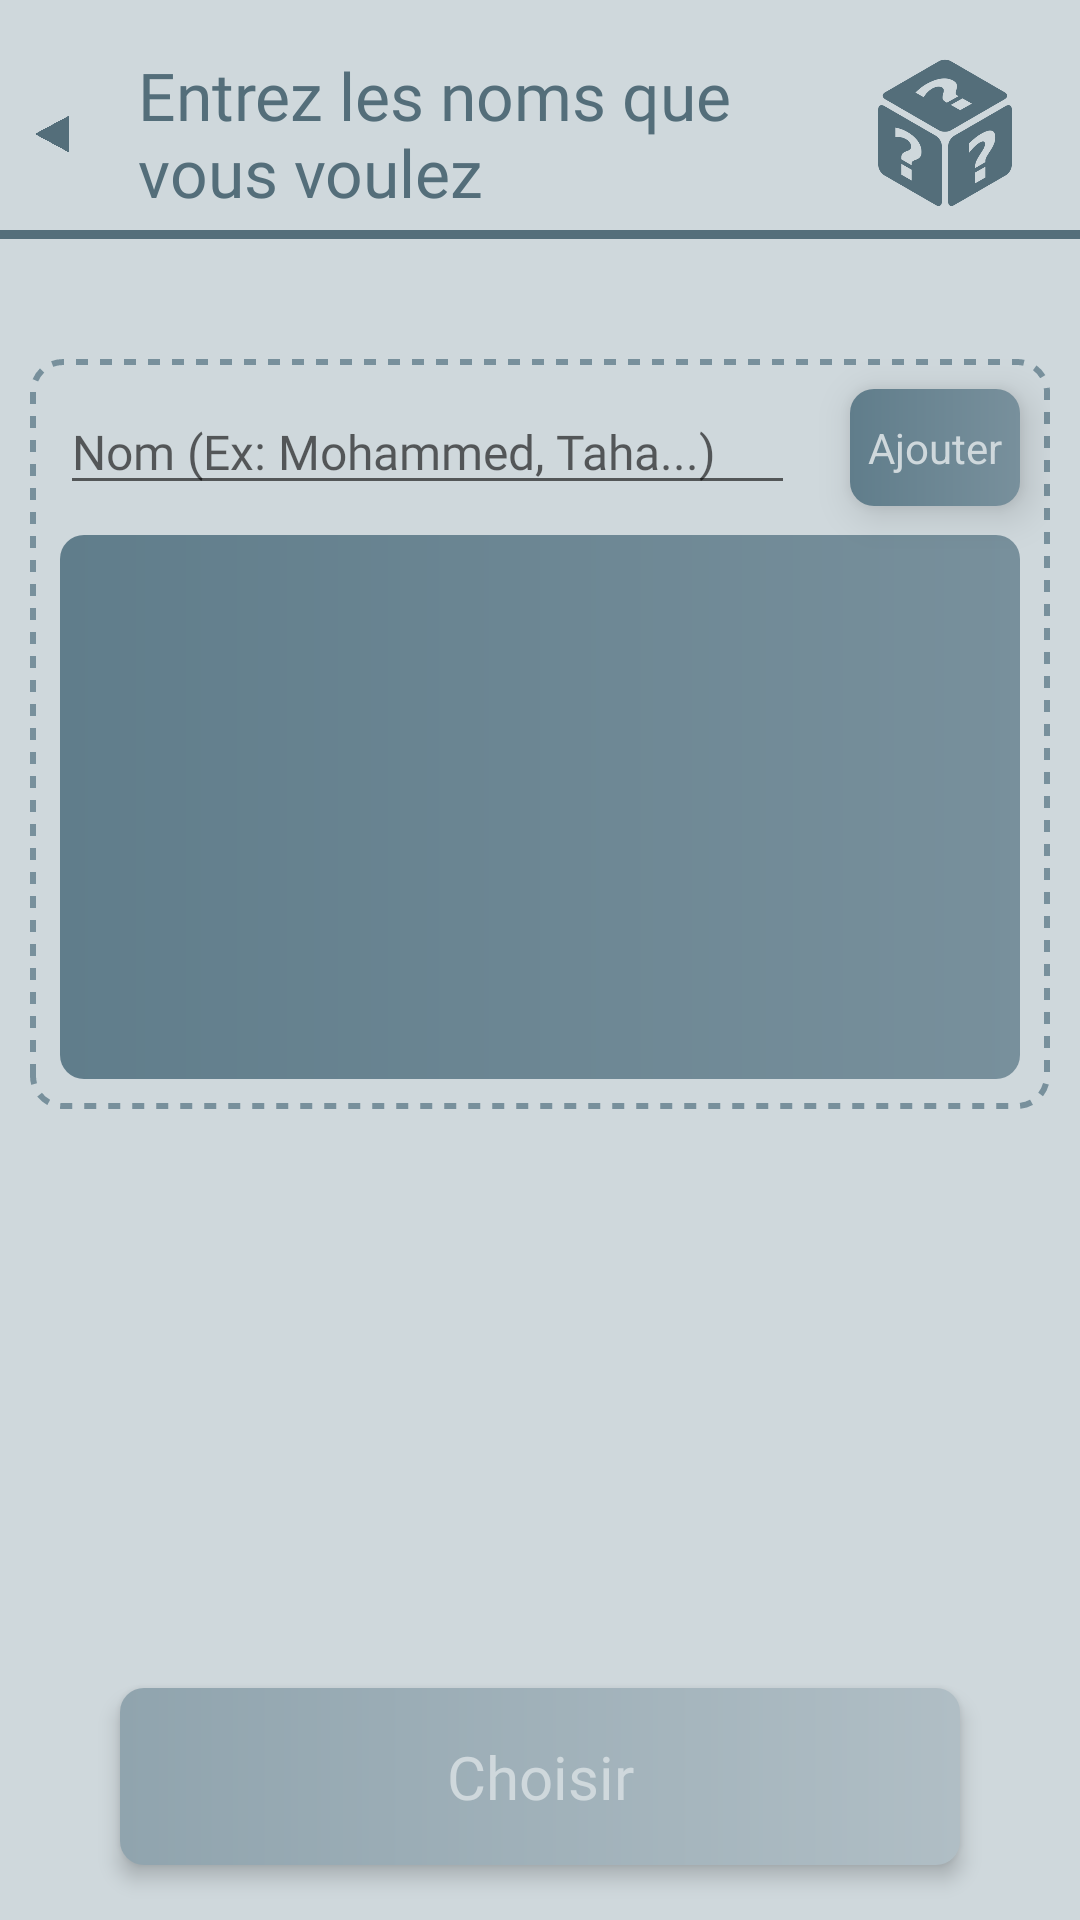

Icons on this 1080 x 1920 Android screen, each with the point to tap as point (x, y):
back: point (52, 134)
random: point (945, 133)
